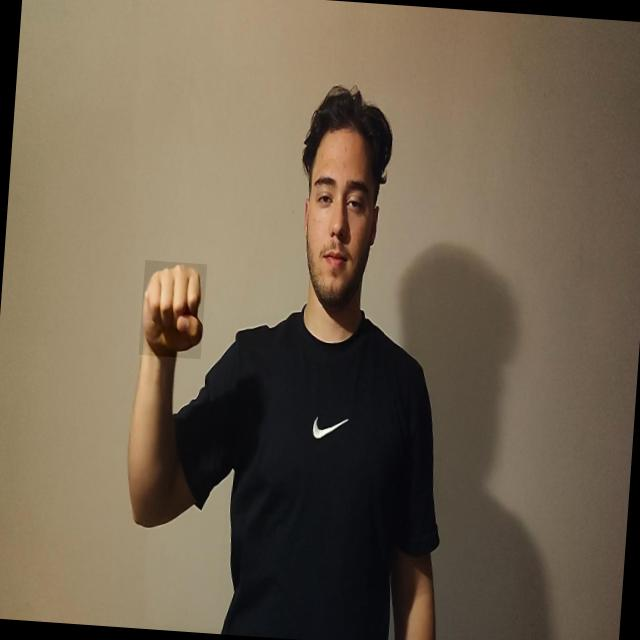yes: (138, 260, 207, 358)
